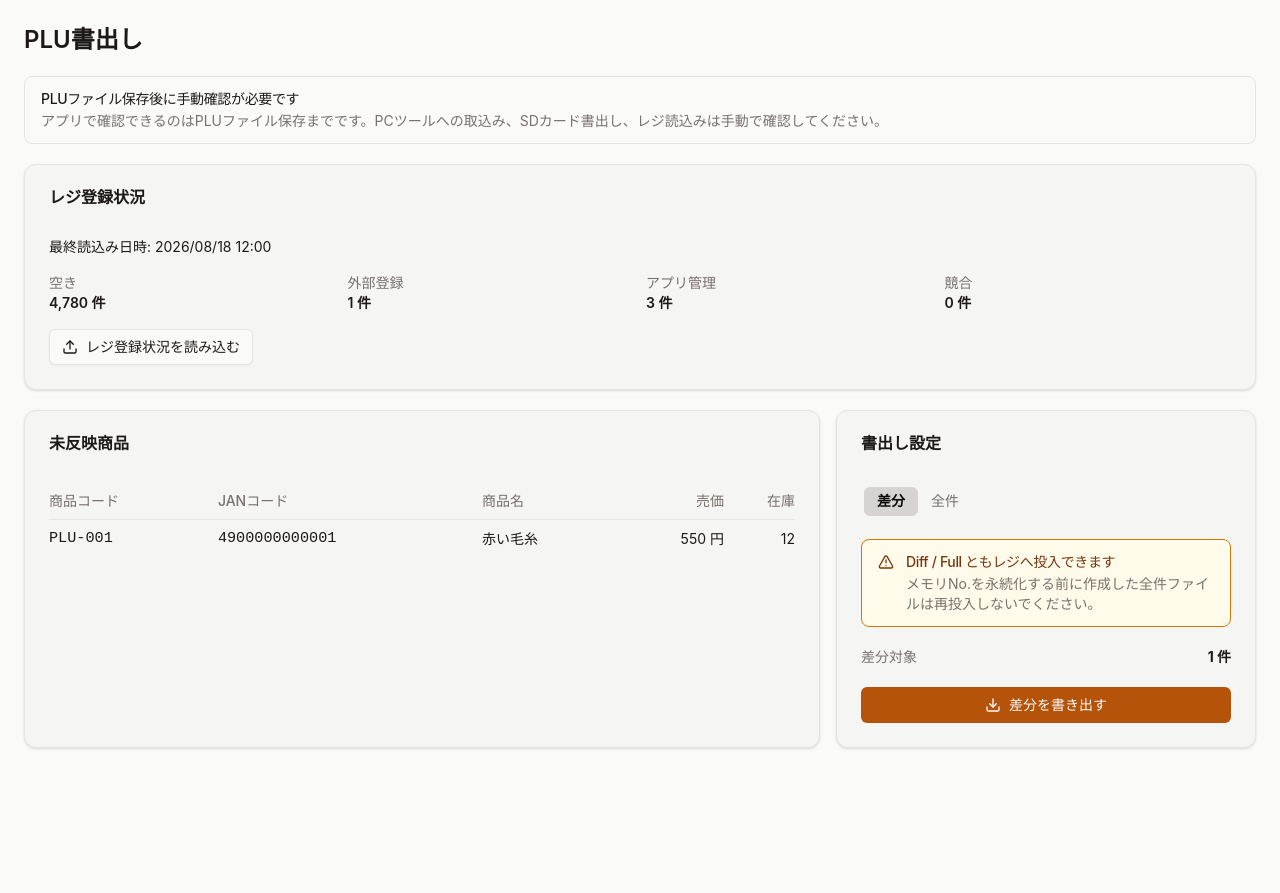
Test: PluExportPage (UI-08 / REQ-402) › REQ-402 shows products excluded from PLU export with Japanese reasons
Click the button "差分を書き出す". click: (1046, 705)
box: [861,687,1231,723]
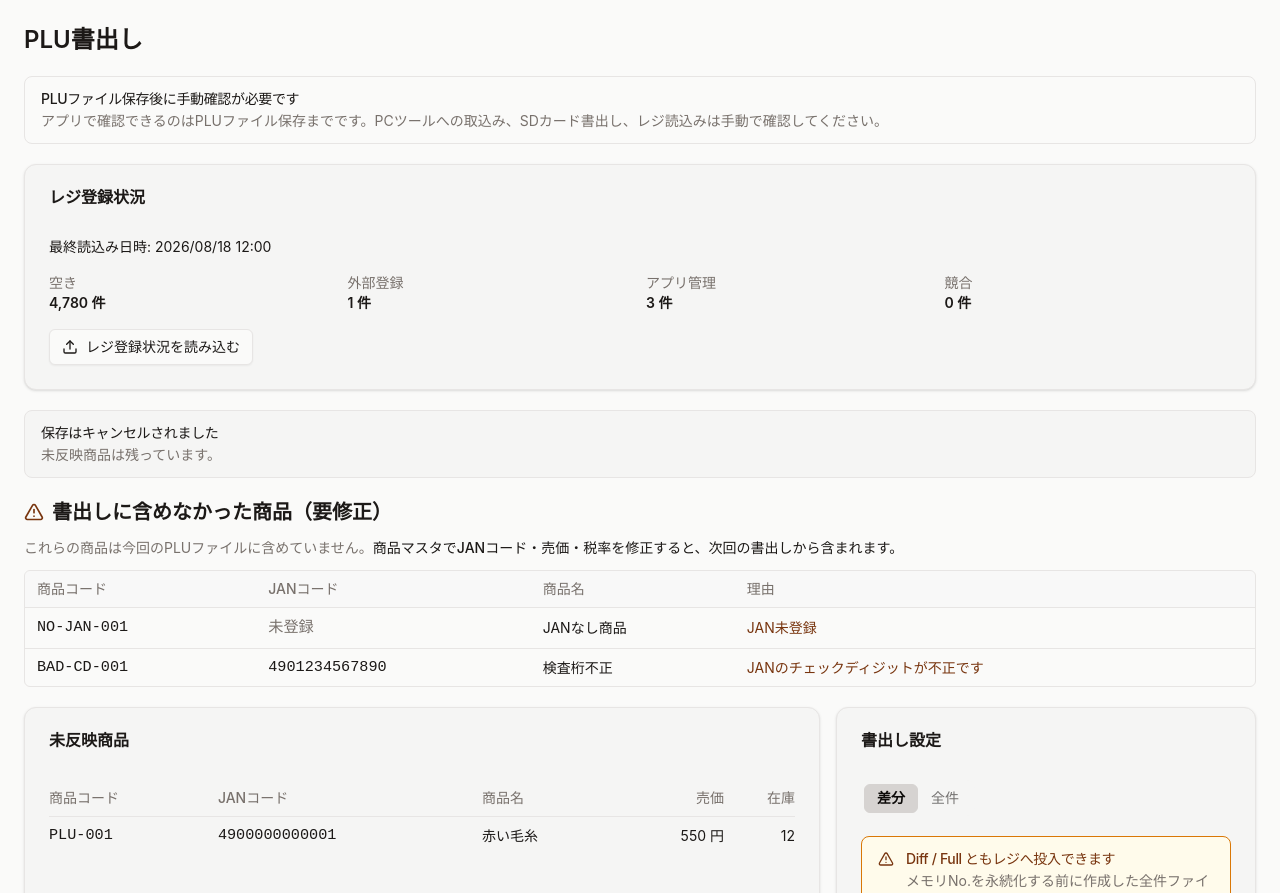
Result: the heading "書出しに含めなかった商品（要修正）" is shown at [24,500,392,524]
Result: the text "NO-JAN-001" is shown at [25,608,268,648]
Result: the text "JAN未登録" is shown at [747,608,1255,648]
